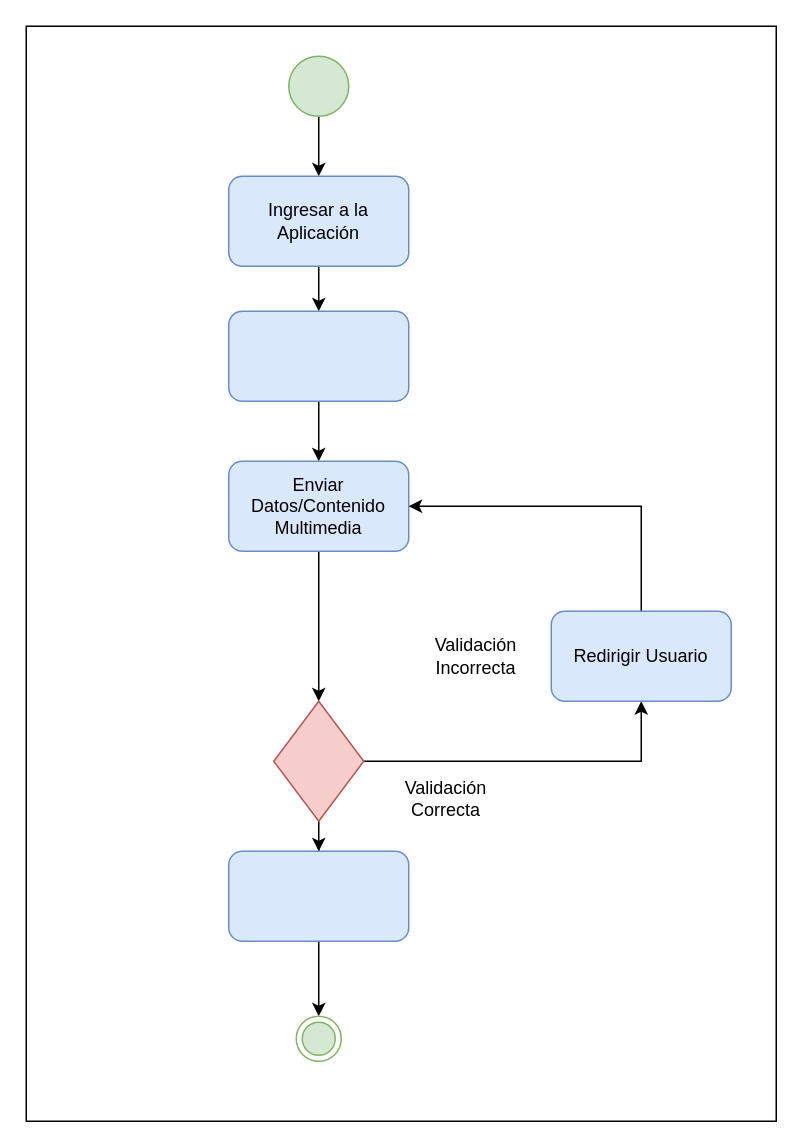
Some shapes in this 803 by 1148 pixel diagram are drawn without their labels. The shapes that lost their labels are listed below. From the top down, each one's box as (x1, y1, x2, y2) in pixels, then its label:
(227, 310, 409, 401): Seleccionar Función
(227, 850, 409, 941): Recibir Respuesta
